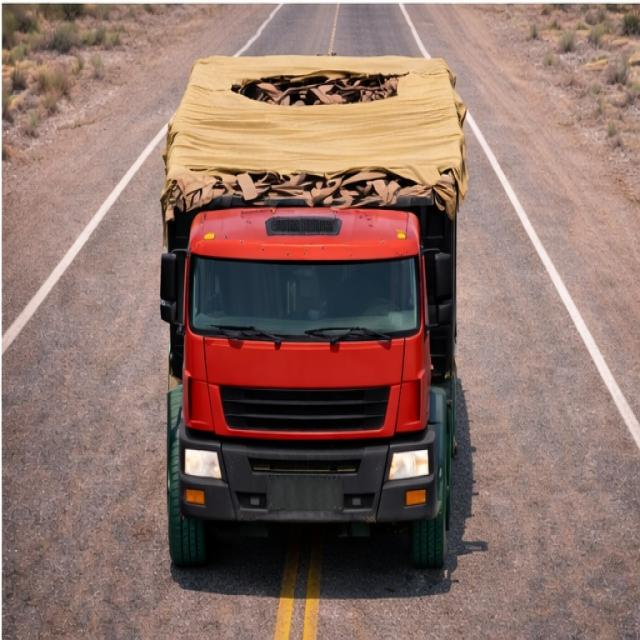trailer: (162, 53, 470, 221)
truck: (148, 34, 480, 558)
